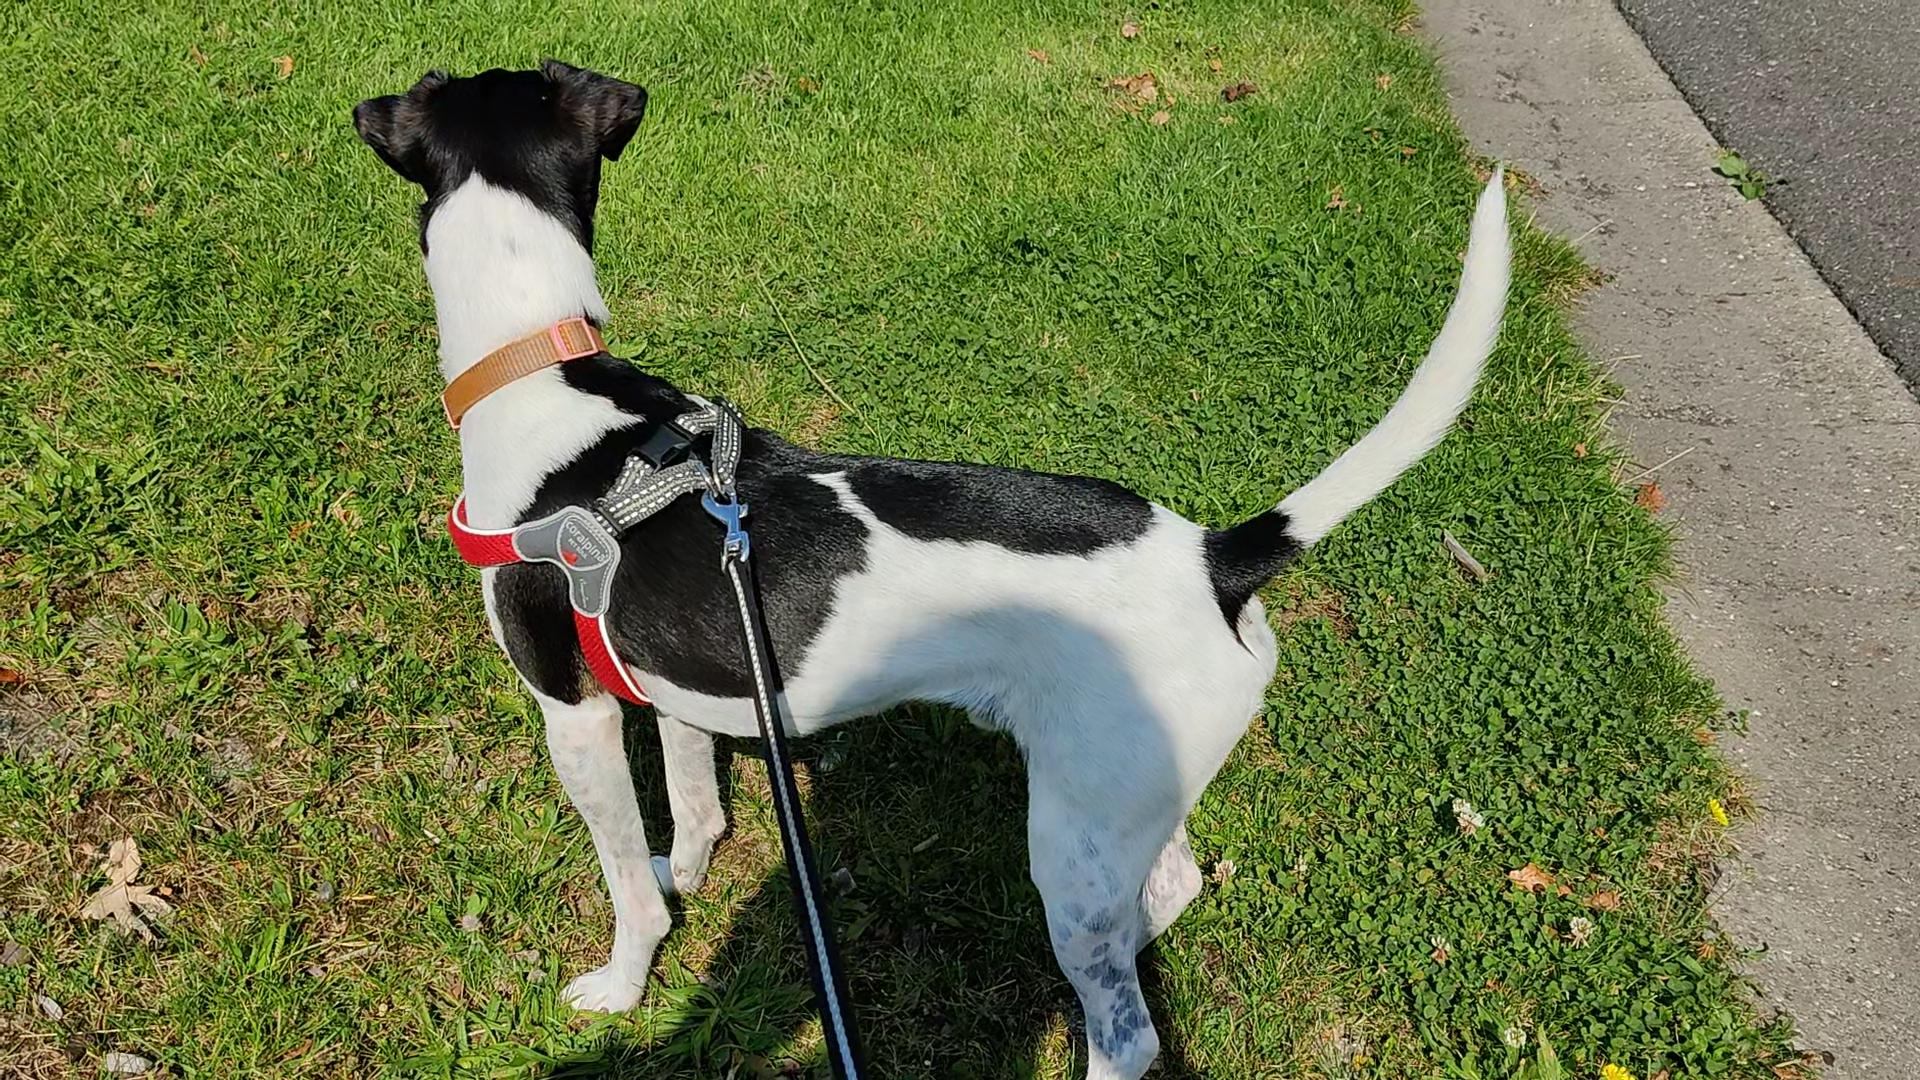Dog: (339, 15, 1534, 1079)
